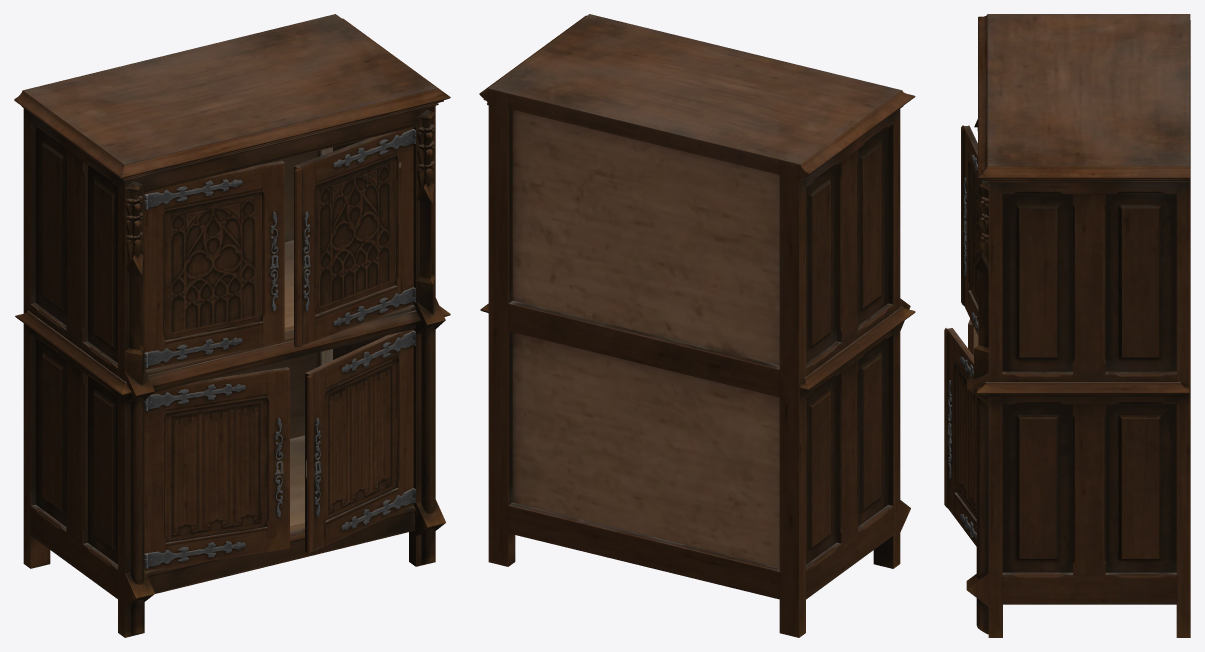
The model's file is furniture_gothiccabinet.glb.
3 views of the same model, side by side, from view 1: azimuth 30°, elevation 25°; view 2: azimuth 150°, elevation 25°; view 3: azimuth 270°, elevation 25° (orthographic).
Parts seen in each view (by area): view 1: GothicCabinet_01_cabinet, GothicCabinet_01_door3, GothicCabinet_01_door1, GothicCabinet_01_door2, GothicCabinet_01_door4; view 2: GothicCabinet_01_cabinet; view 3: GothicCabinet_01_cabinet, GothicCabinet_01_door4, GothicCabinet_01_door2.
Part boxes in pixels (box(x1,y1,x2,y2)): GothicCabinet_01_cabinet: box(14, 14, 450, 637); GothicCabinet_01_door3: box(144, 367, 289, 571); GothicCabinet_01_door1: box(144, 160, 284, 369); GothicCabinet_01_door2: box(294, 127, 415, 347); GothicCabinet_01_door4: box(305, 329, 415, 554); GothicCabinet_01_cabinet: box(479, 14, 915, 637); GothicCabinet_01_cabinet: box(966, 14, 1190, 637); GothicCabinet_01_door4: box(944, 328, 976, 546); GothicCabinet_01_door2: box(961, 125, 986, 335).
Size of the model in its own units: 1.72 by 2.36 by 1.12.
1 material, 1 textured.
